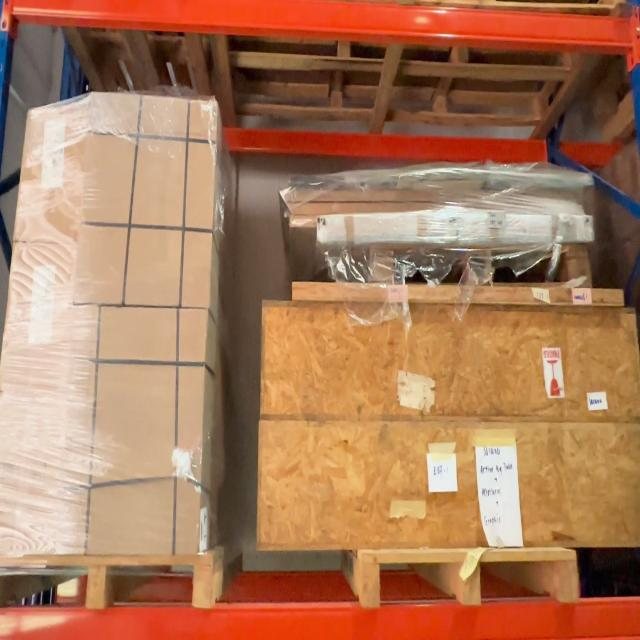box: (54, 303, 210, 556), (71, 95, 219, 310), (14, 100, 90, 240)
